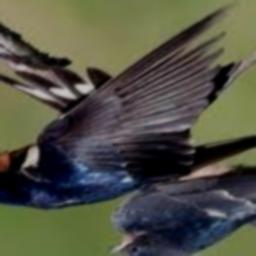Swallow: (0, 4, 256, 210), (111, 172, 256, 256)
